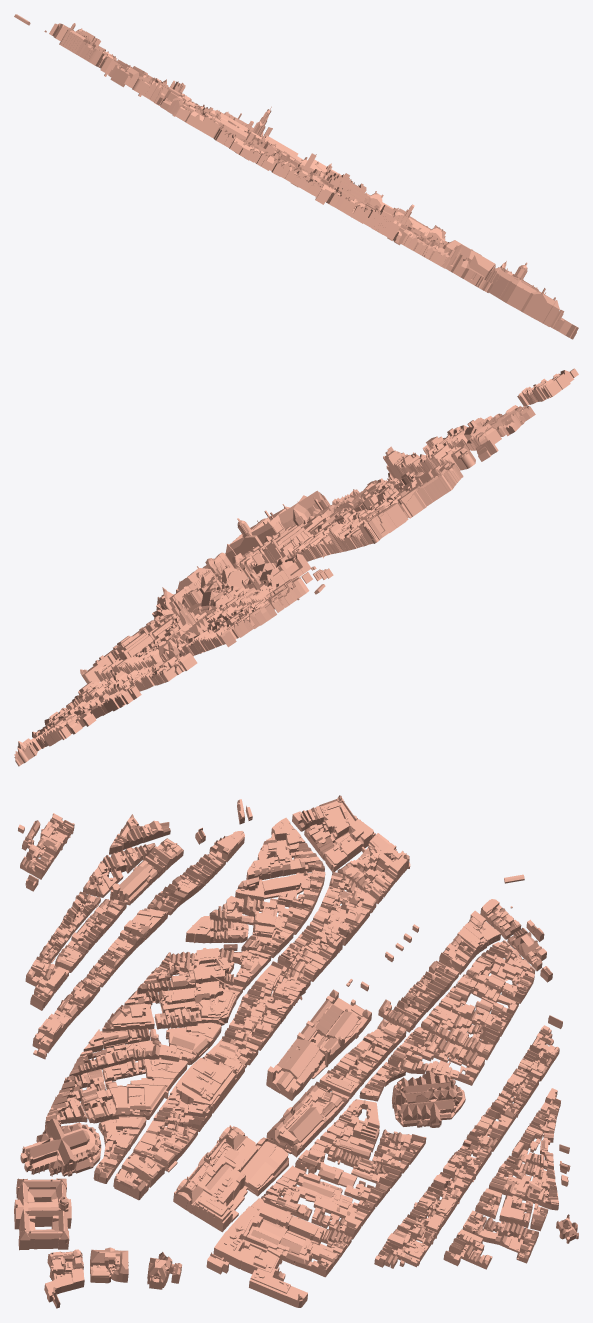
The picture shows the model from 3 angles, top to bottom: view 1: azimuth 30°, elevation 25°; view 2: azimuth 150°, elevation 25°; view 3: azimuth 270°, elevation 25°; orthographic projection. The views are drawn at different scales.
Bounding box in the file's own units: 1.8e+07 × 1.39e+07 × 2.16e+07.
